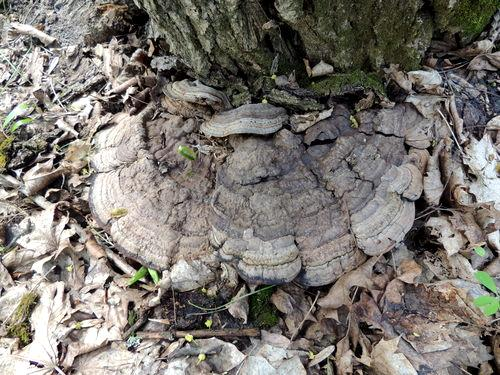Ganoderma - Fruit Body: (86, 82, 439, 294)
